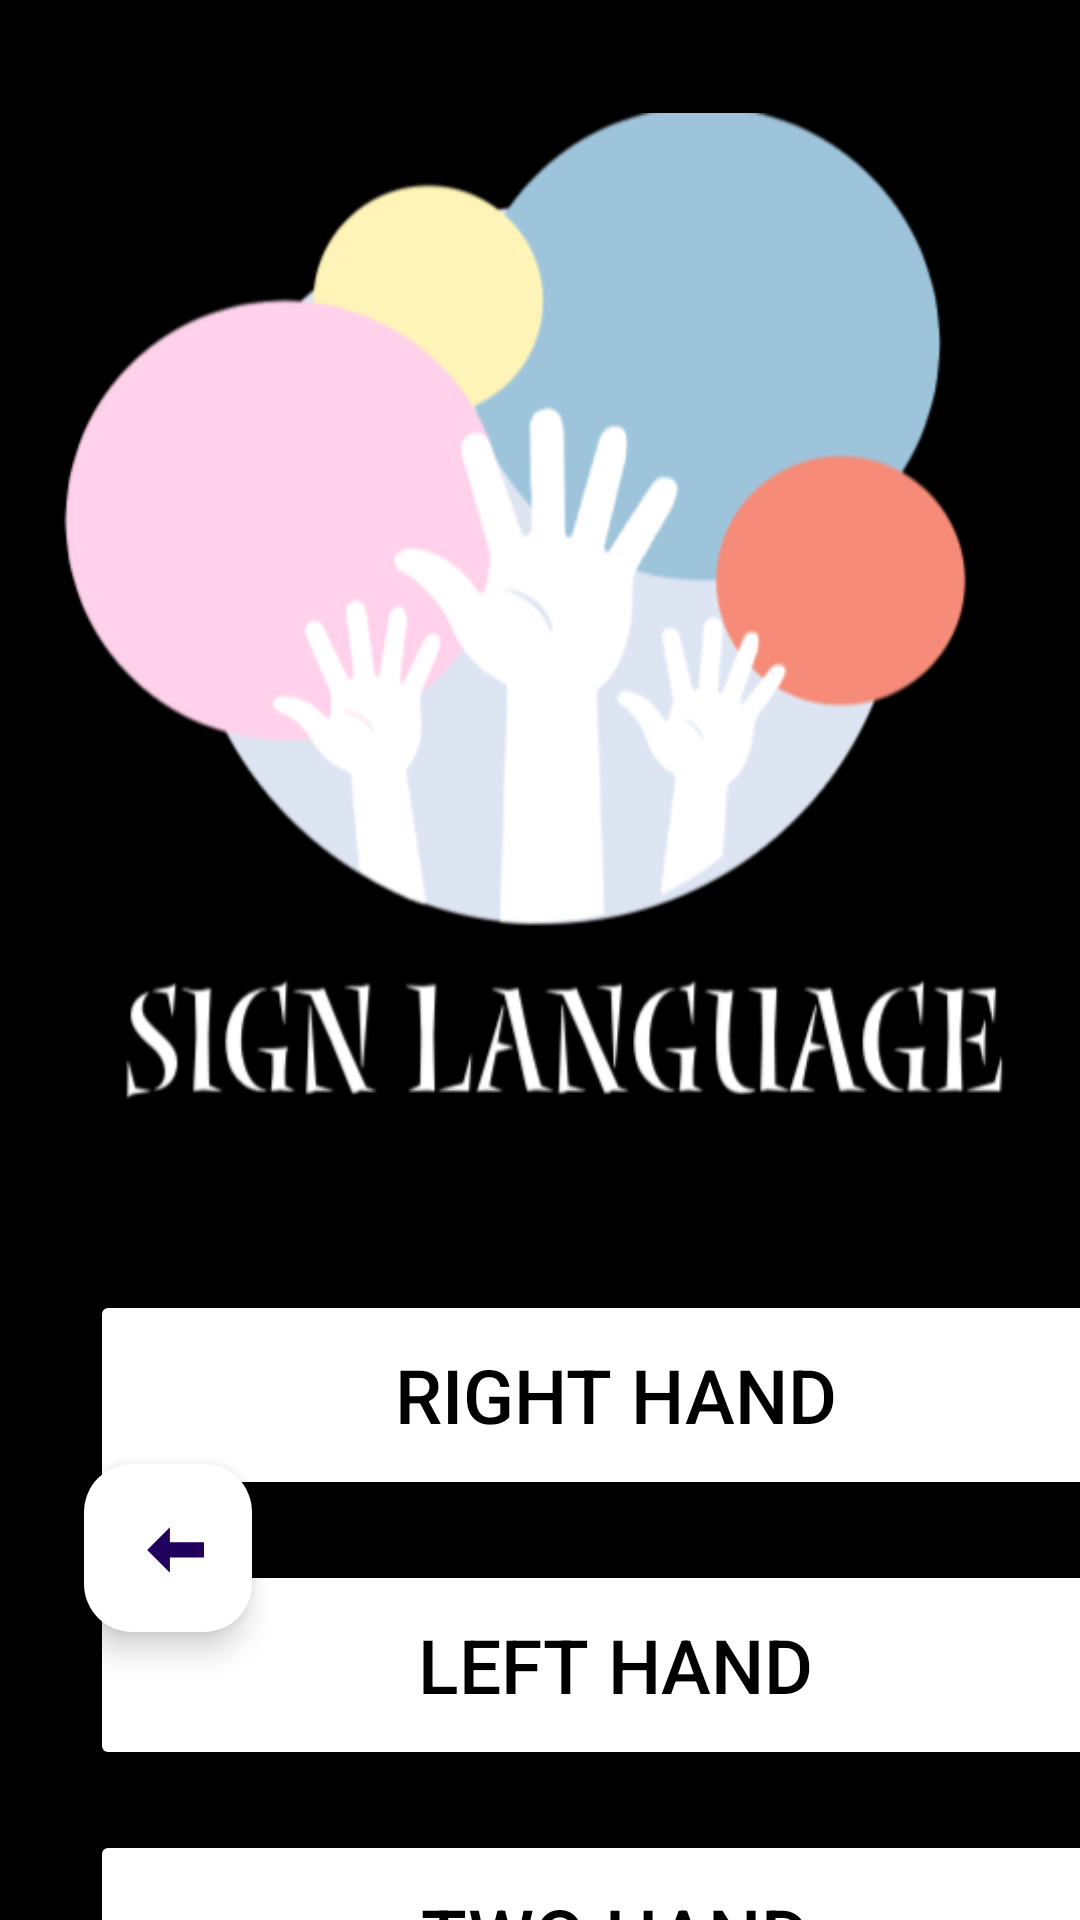

Icons on this 1080px×1920px Android screen, each with the point to tap as [x,y]:
arrow back: [168,1548]
